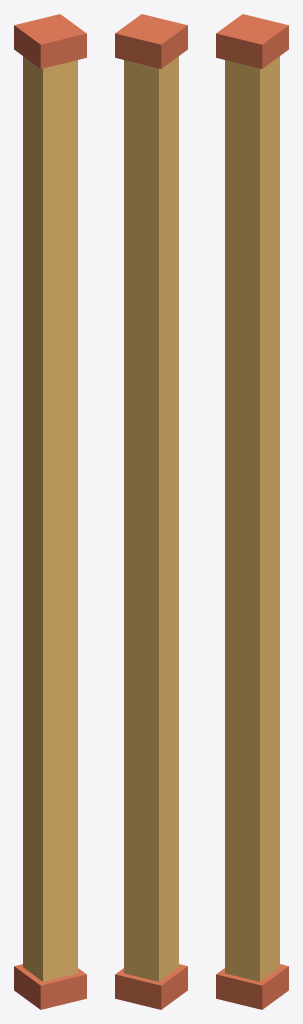
Rendered from Stolb.fbx.
3 views of the same model, side by side, from view 1: azimuth 30°, elevation 25°; view 2: azimuth 150°, elevation 25°; view 3: azimuth 330°, elevation 25° (orthographic).
Visible parts, largest first — view 1: Куб; view 2: Куб; view 3: Куб.
Boxes of the visible parts, x1=… form: Куб: x1=14, y1=14, x2=86, y2=1009; Куб: x1=115, y1=14, x2=187, y2=1009; Куб: x1=216, y1=14, x2=288, y2=1009.
Size of the model in its own units: 25 by 500 by 25.
